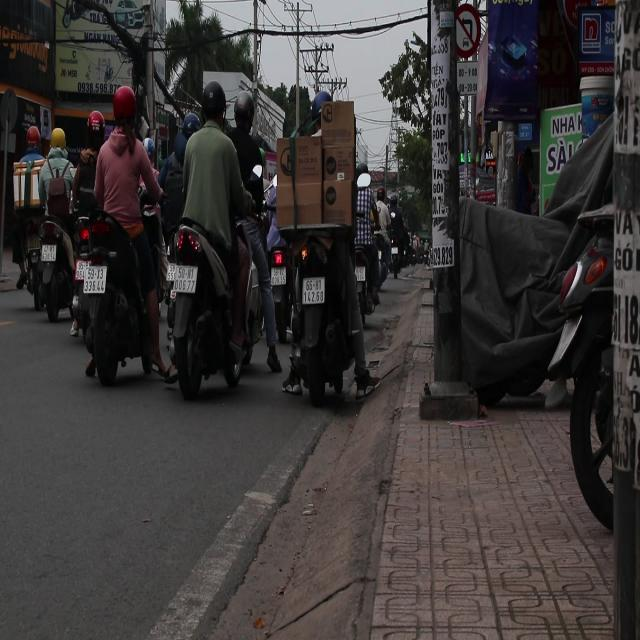motorbike: (279, 221, 367, 409), (169, 212, 253, 400), (89, 213, 167, 383)
